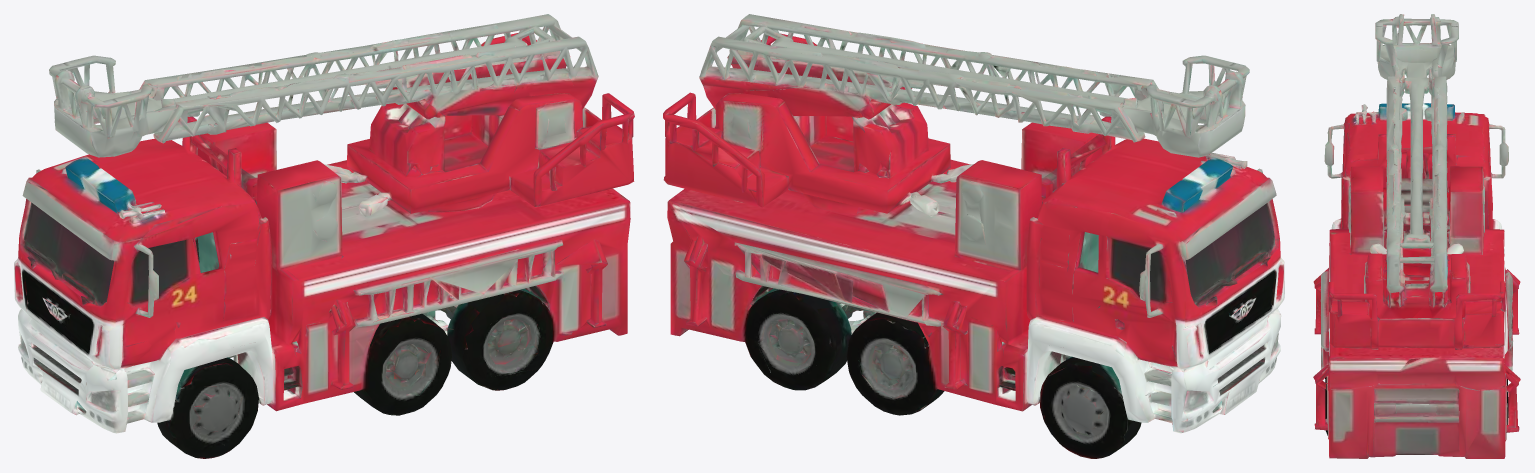
File: firetruck.glb
3 renders of one model, left to right at view 1: azimuth 30°, elevation 25°; view 2: azimuth 150°, elevation 25°; view 3: azimuth 270°, elevation 25°, orthographic. The views are drawn at different scales.
Parts seen in each view (by area): view 1: Mesh_0; view 2: Mesh_0; view 3: Mesh_0.
Boxes of the visible parts, x1,y1,x2,y2 form: Mesh_0: (14,14,634,458); Mesh_0: (663,14,1284,458); Mesh_0: (1313,14,1520,458).
Size of the model in its own units: 1.9 by 1.22 by 0.8265.
Materials: 1 (1 with a texture image).
